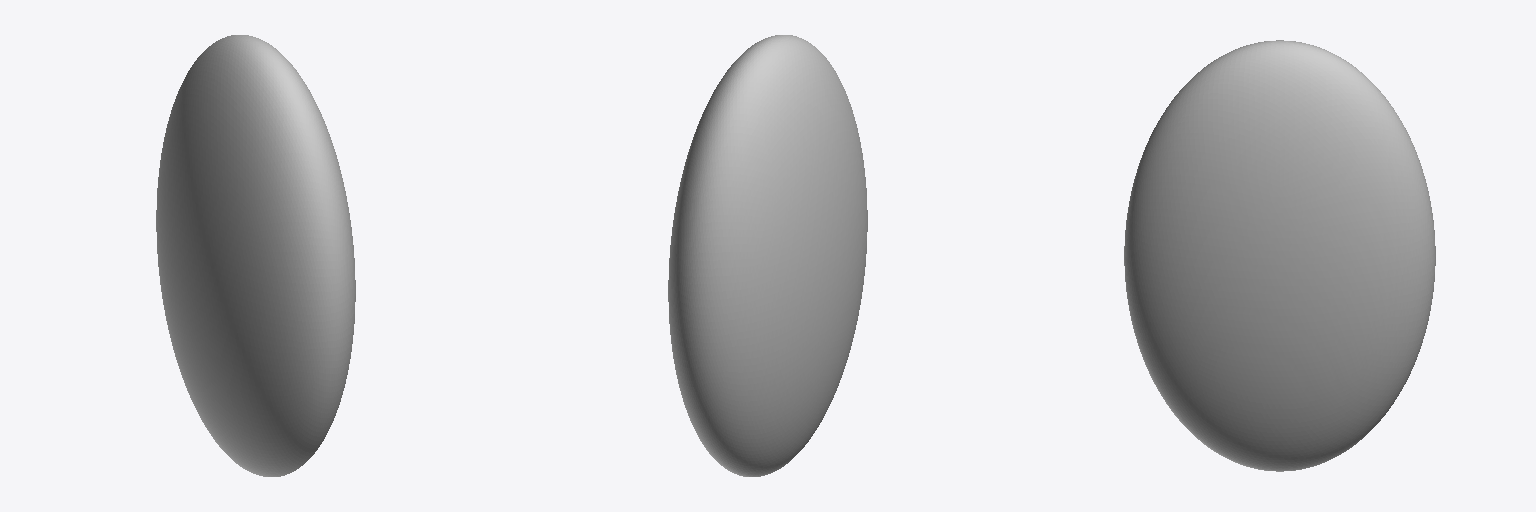
The model's file is disk.obj.
3 renders of one model, left to right at view 1: azimuth 30°, elevation 25°; view 2: azimuth 150°, elevation 25°; view 3: azimuth 270°, elevation 25°, orthographic.
Parts seen in each view (by area): view 1: Icosphere; view 2: Icosphere; view 3: Icosphere.
Boxes of the visible parts, x1,y1,x2,y2 form: Icosphere: [156, 35, 355, 476]; Icosphere: [668, 35, 867, 476]; Icosphere: [1124, 40, 1435, 471].
Size of the model in its own units: 0.72 by 2.36 by 1.56.